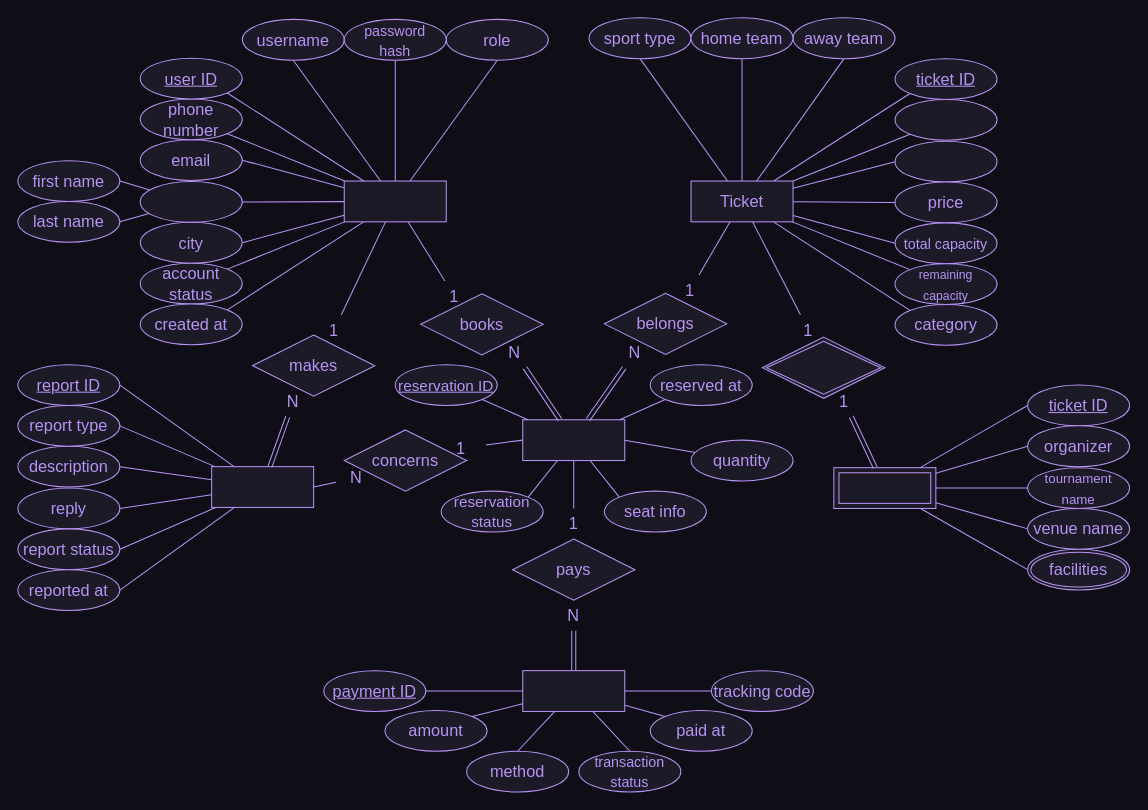
The diagram is 1148 pixels wide and 810 high, and some of its shapes have lost their labels. The centre of each missing label's shape, as x and y in pixels:
about: the point at 823,367
Match Details: the point at 884,487
name: the point at 190,201
Payment: the point at 573,690
Report: the point at 262,486
Reservation: the point at 573,440
ticket date time: the point at 945,119
User: the point at 394,201
venue city: the point at 945,161
